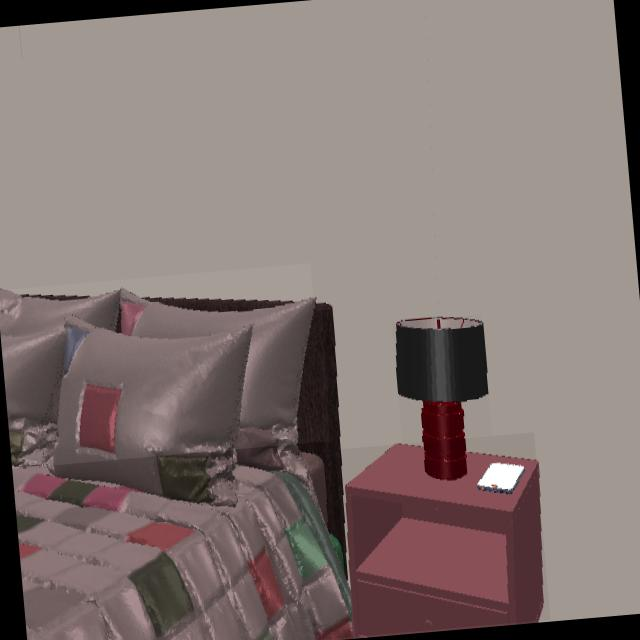bed: (12, 468, 348, 640)
lamp: (398, 318, 487, 480)
nighttable: (345, 444, 543, 636)
pillow: (0, 290, 313, 504)
